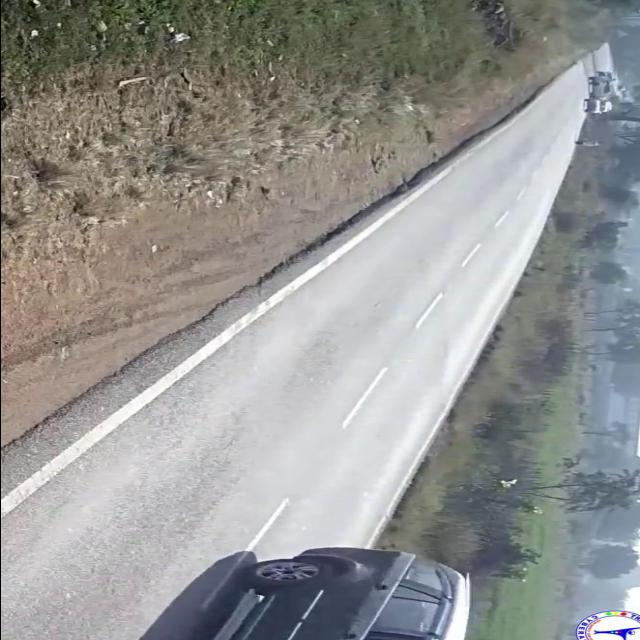accident: (582, 75, 614, 117)
